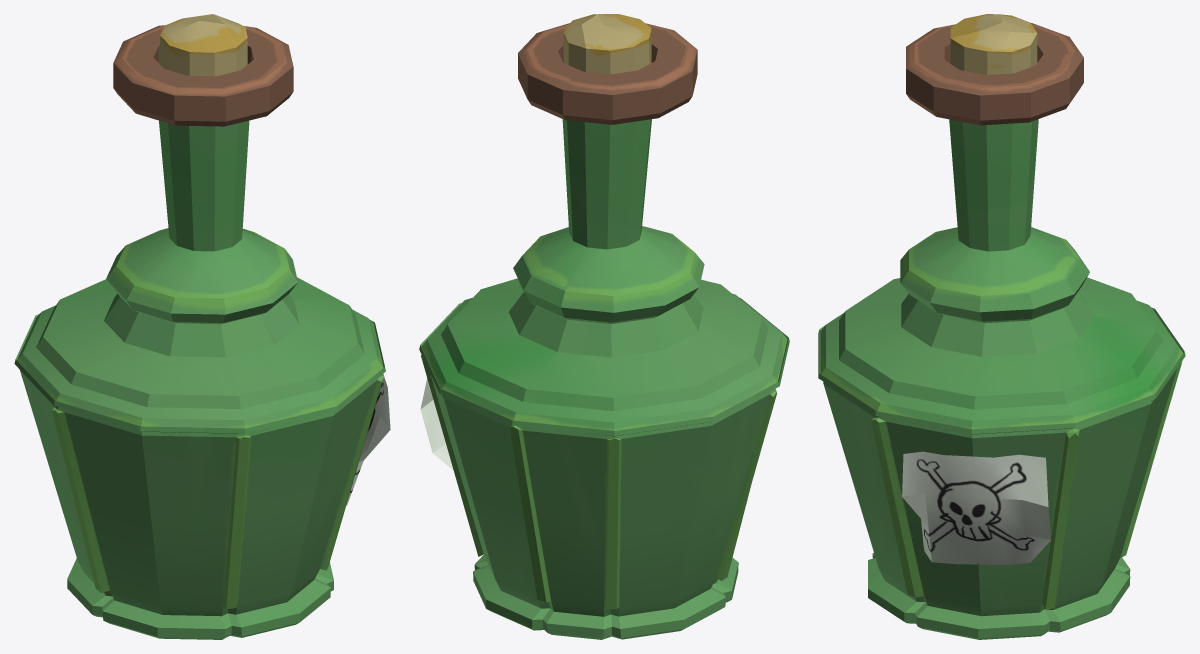
File: potion  1.fbx
3 views of the same model, side by side, from view 1: azimuth 30°, elevation 25°; view 2: azimuth 150°, elevation 25°; view 3: azimuth 270°, elevation 25° (orthographic).
Parts seen in each view (by area): view 1: potion; view 2: potion; view 3: potion.
Part boxes in pixels (x1,y1,x2,y2): potion: (14,14,390,639); potion: (419,14,789,639); potion: (818,14,1185,639).
Bounding box in the file's own units: 0.3026 × 0.5067 × 0.2995.
